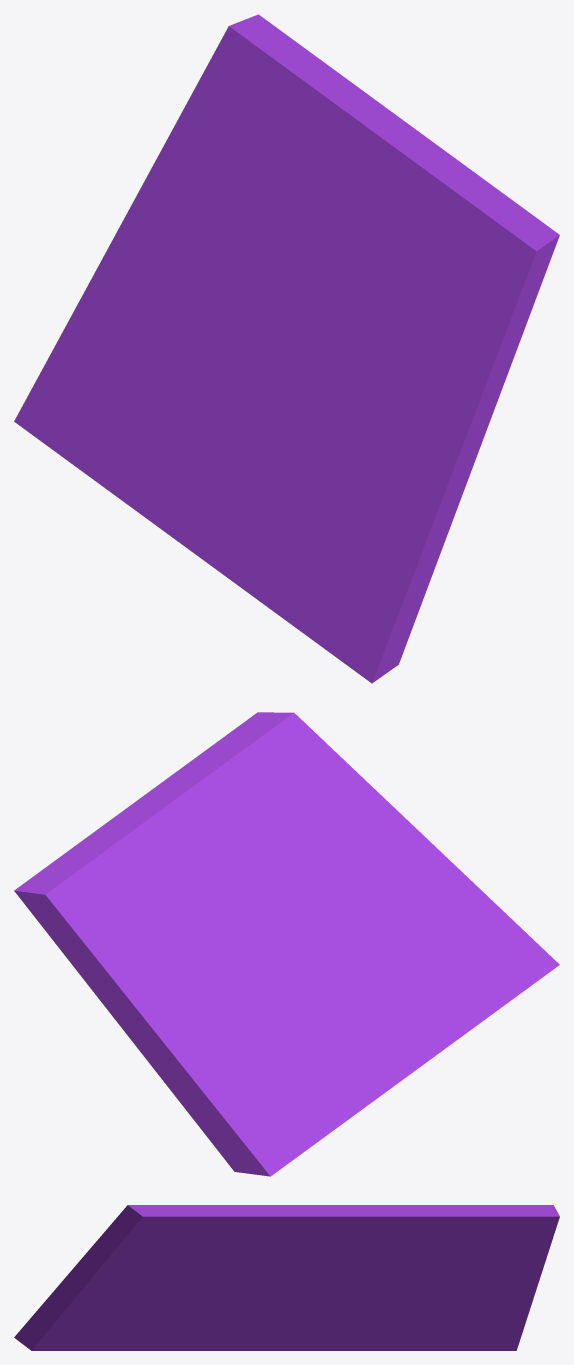
File: Window_114_chunks.fbx
The picture shows the model from 3 angles, top to bottom: view 1: azimuth 30°, elevation 25°; view 2: azimuth 150°, elevation 25°; view 3: azimuth 270°, elevation 25°; orthographic projection. The views are drawn at different scales.
Parts seen in each view (by area): view 1: Window_114_3, Window_114_2, Window_114_0, Window_114_1; view 2: Window_114_3, Window_114_0, Window_114_2, Window_114_1; view 3: Window_114_3, Window_114_1, Window_114_2, Window_114_0.
Boxes of the visible parts, x1=… form: Window_114_3: x1=72, y1=14, x2=441, y2=323; Window_114_2: x1=288, y1=149, x2=559, y2=477; Window_114_0: x1=14, y1=314, x2=298, y2=606; Window_114_1: x1=268, y1=375, x2=487, y2=683; Window_114_3: x1=14, y1=782, x2=276, y2=1125; Window_114_0: x1=198, y1=931, x2=475, y2=1176; Window_114_2: x1=163, y1=712, x2=432, y2=936; Window_114_1: x1=317, y1=844, x2=559, y2=1026; Window_114_3: x1=300, y1=1205, x2=559, y2=1328; Window_114_1: x1=14, y1=1274, x2=316, y2=1350; Window_114_2: x1=68, y1=1205, x2=318, y2=1278; Window_114_0: x1=212, y1=1292, x2=523, y2=1350.
Size of the model in its own units: 720 by 763 by 1750.
